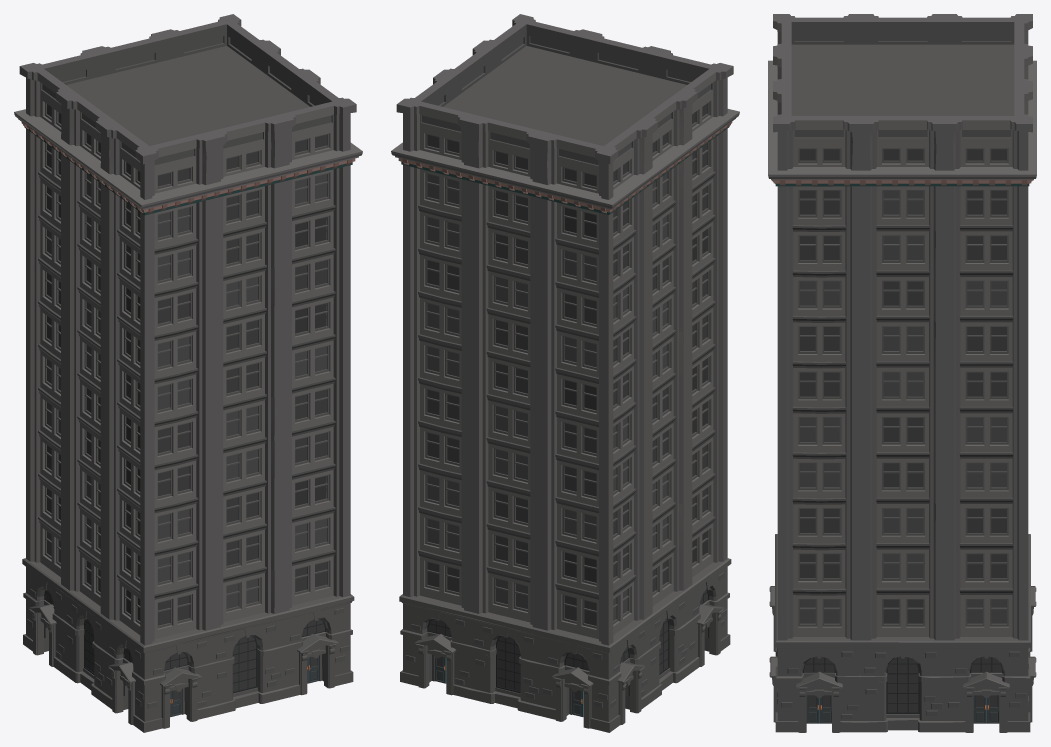
File: SM_Env_LargeBuilding.glb
The picture shows the model from 3 angles, left to right: view 1: azimuth 30°, elevation 25°; view 2: azimuth 150°, elevation 25°; view 3: azimuth 270°, elevation 25°; orthographic projection. The views are drawn at different scales.
Parts seen in each view (by area): view 1: SM_Bld_Large; view 2: SM_Bld_Large; view 3: SM_Bld_Large.
Part boxes in pixels (x1=…): SM_Bld_Large: x1=14, y1=14, x2=362, y2=732; SM_Bld_Large: x1=391, y1=14, x2=739, y2=732; SM_Bld_Large: x1=768, y1=14, x2=1036, y2=732.
Size of the model in its own units: 16.12 by 40.23 by 16.09.
Materials: 1 (1 with a texture image).
